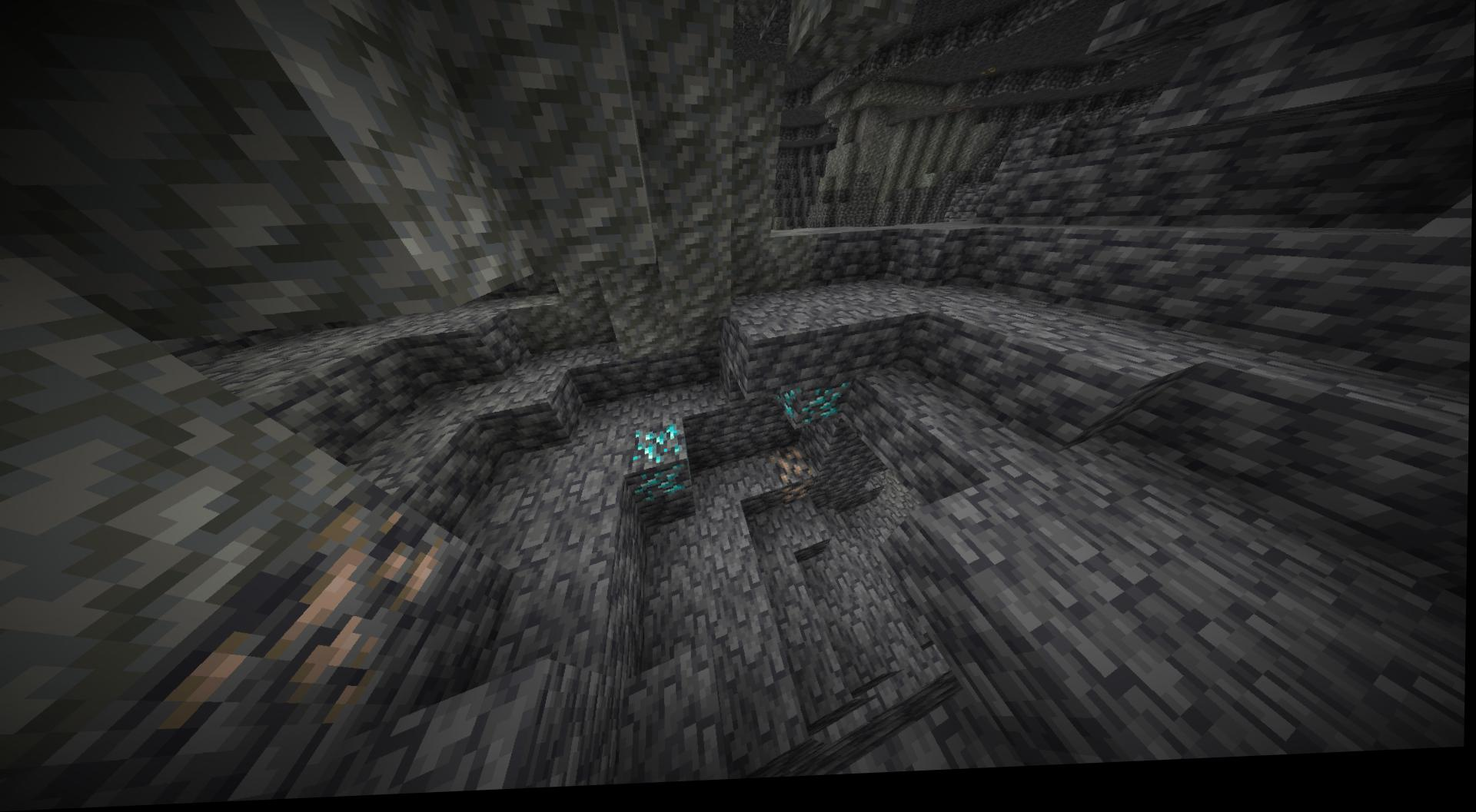diamond ore: (630, 466, 689, 512), (633, 428, 687, 473), (799, 388, 847, 435), (779, 390, 801, 429)
iron ore: (158, 494, 451, 736), (773, 451, 813, 486), (783, 487, 815, 511)
